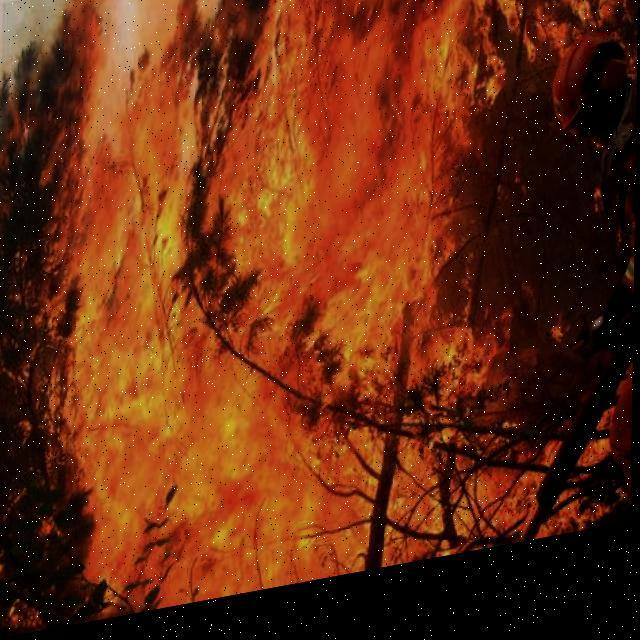Fire: (37, 0, 634, 628)
